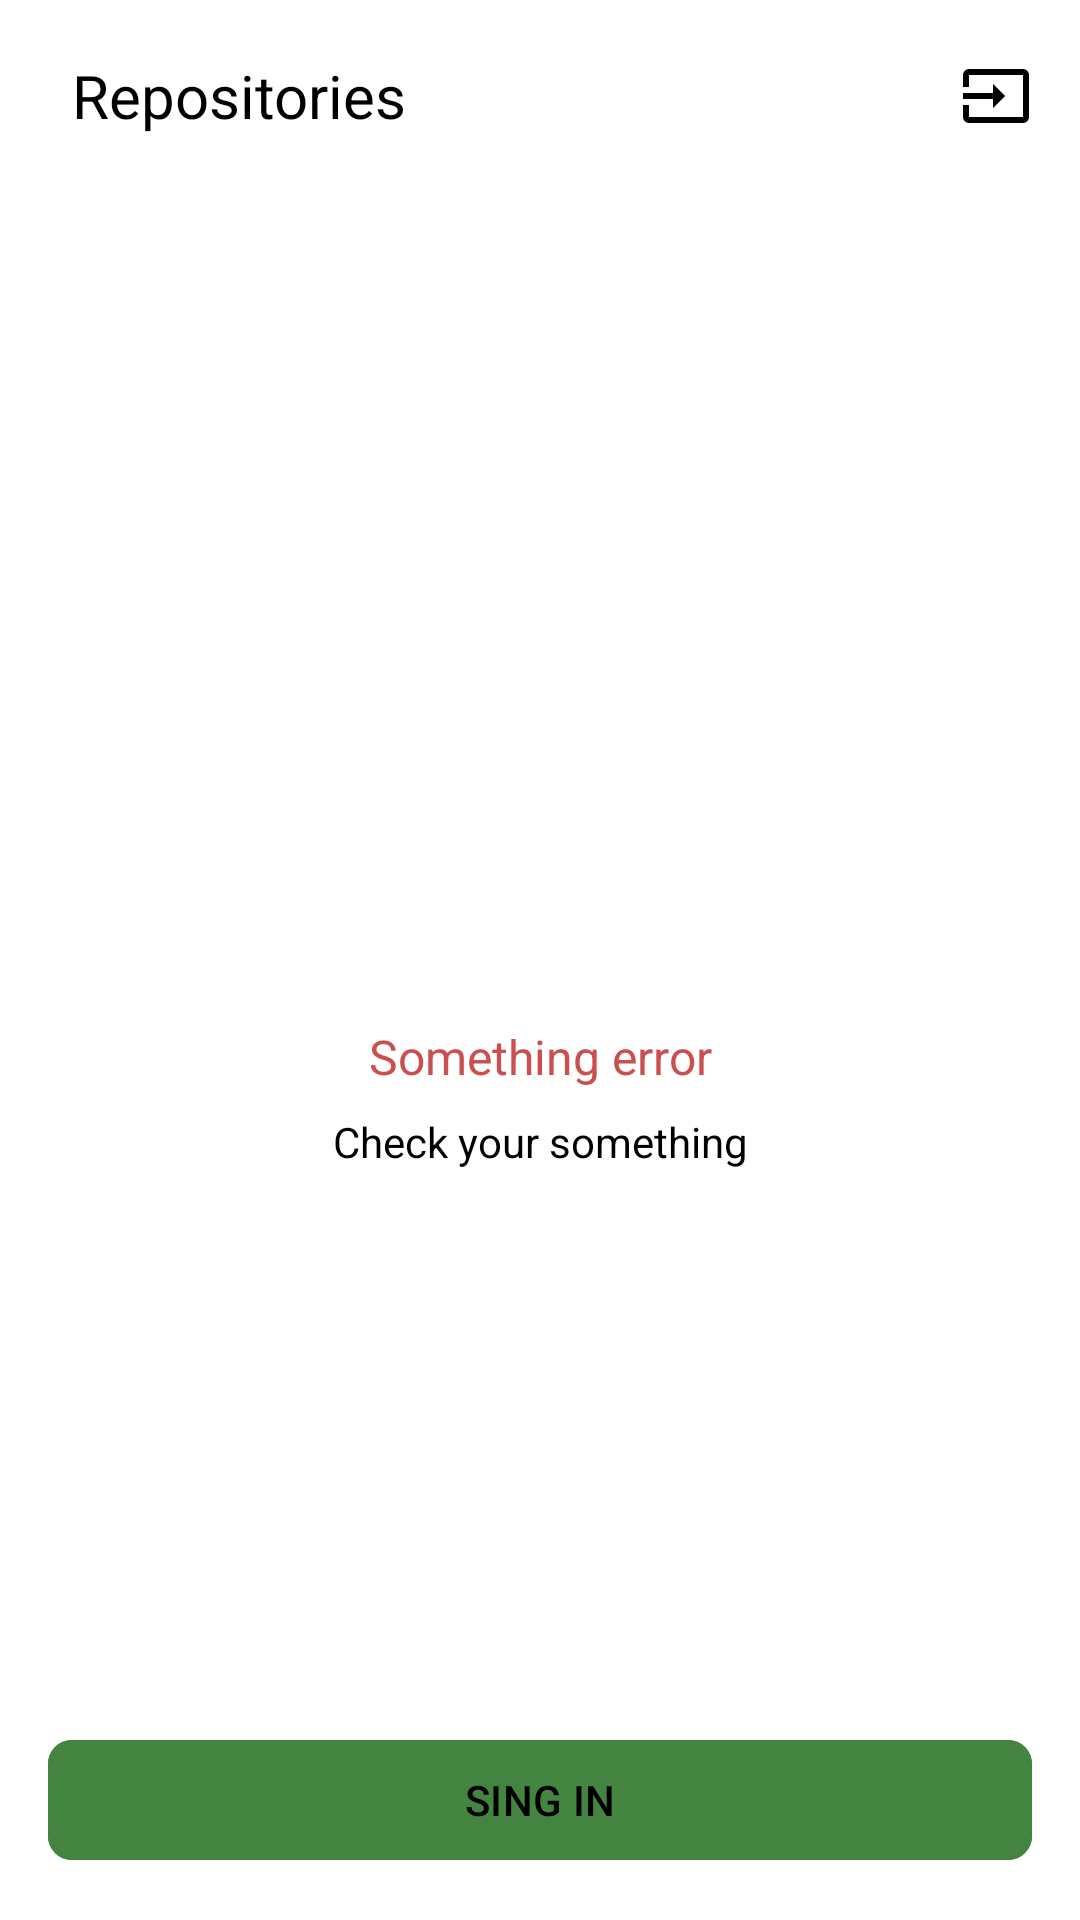

Point at icon controls on the screen. Image size 1080px×1920px, points as [x,y].
This is Input button: [996,96]
